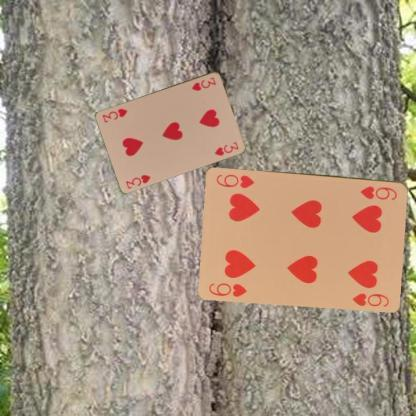3h: (123, 172, 152, 190), (189, 74, 217, 92)
6h: (206, 280, 249, 298), (358, 183, 399, 201)
